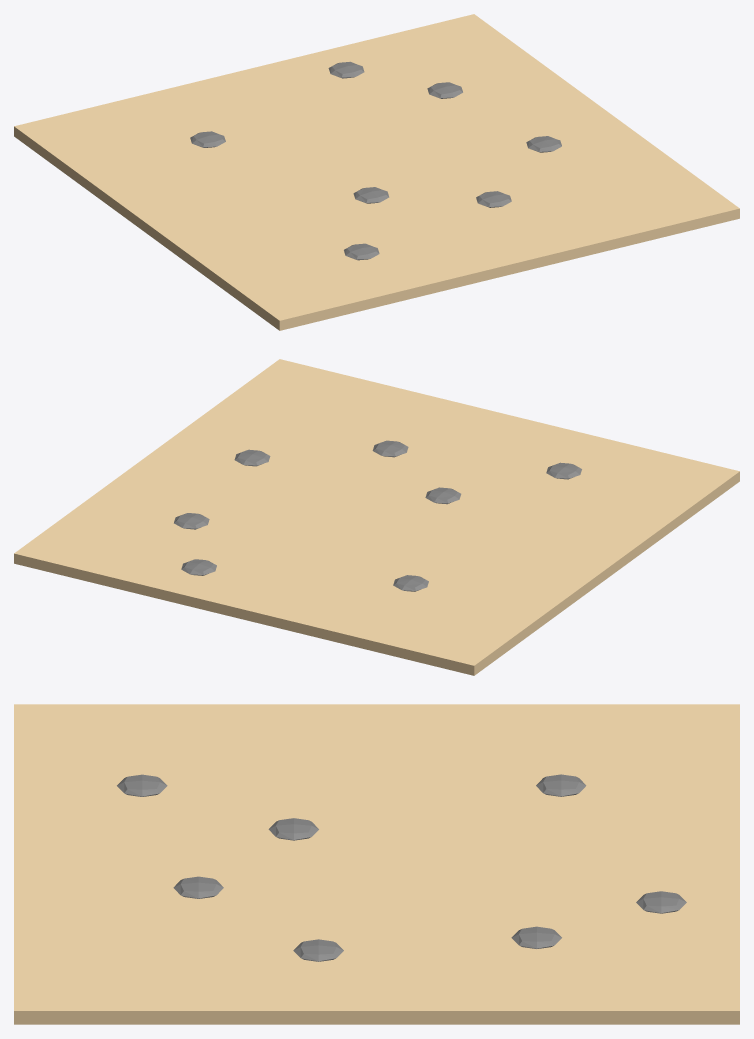
The model's file is DCMfloor1.glb.
The picture shows the model from 3 angles, top to bottom: view 1: azimuth 30°, elevation 25°; view 2: azimuth 150°, elevation 25°; view 3: azimuth 270°, elevation 25°; orthographic projection. The views are drawn at different scales.
Parts seen in each view (by area): view 1: Floor; view 2: Floor; view 3: Floor, Rock 3, Rock, Rock 5, Rock 6, Rock 1, Rock 2, Rock 4.
Boxes of the visible parts, x1,y1,x2,y2 form: Floor: (14,14,739,330); Floor: (14,359,739,675); Floor: (14,704,739,1024); Rock 3: (268,818,318,840); Rock: (173,876,223,898); Rock 5: (536,774,586,796); Rock 6: (293,939,343,961); Rock 1: (117,774,167,796); Rock 2: (511,926,561,948); Rock 4: (636,891,686,913).
Size of the model in its own units: 1 by 0.0353 by 1.
